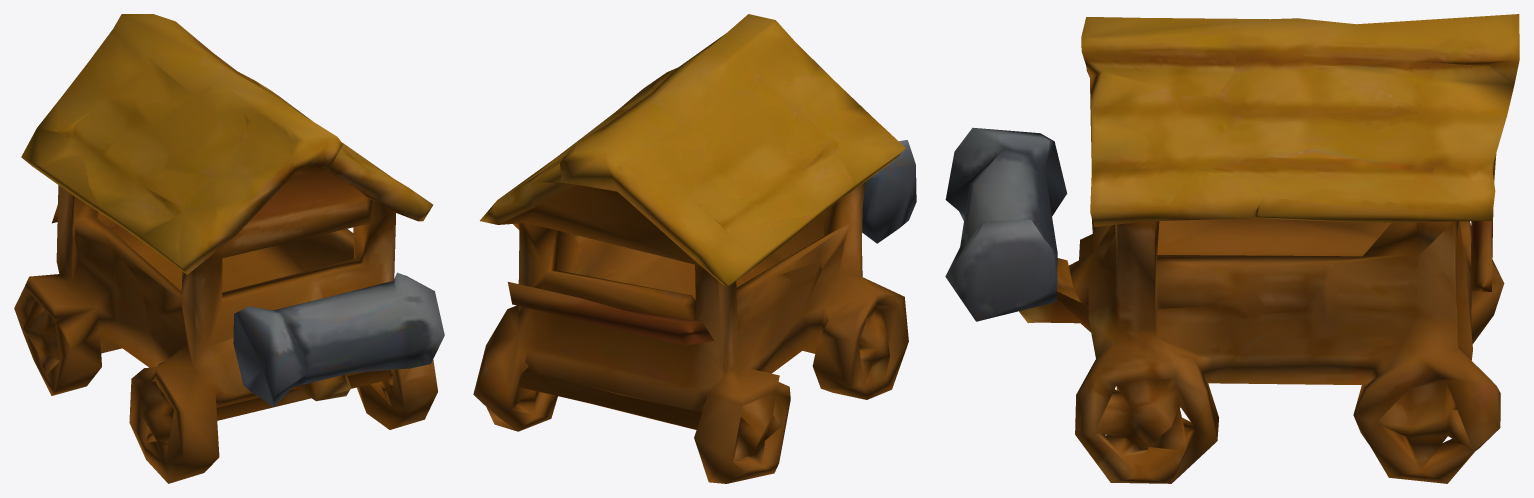
File: ram.glb
The picture shows the model from 3 angles, left to right: view 1: azimuth 30°, elevation 25°; view 2: azimuth 150°, elevation 25°; view 3: azimuth 270°, elevation 25°; orthographic projection. The views are drawn at different scales.
Parts seen in each view (by area): view 1: tripo_node_79e9d38d-320c-4e07-92be-922847945f51; view 2: tripo_node_79e9d38d-320c-4e07-92be-922847945f51; view 3: tripo_node_79e9d38d-320c-4e07-92be-922847945f51.
Part boxes in pixels (<box>): tripo_node_79e9d38d-320c-4e07-92be-922847945f51: <box>14,14,444,483</box>; tripo_node_79e9d38d-320c-4e07-92be-922847945f51: <box>473,14,916,483</box>; tripo_node_79e9d38d-320c-4e07-92be-922847945f51: <box>945,14,1519,483</box>.
Size of the model in its own units: 0.6727 by 0.7578 by 1.
1 material, 1 textured.
